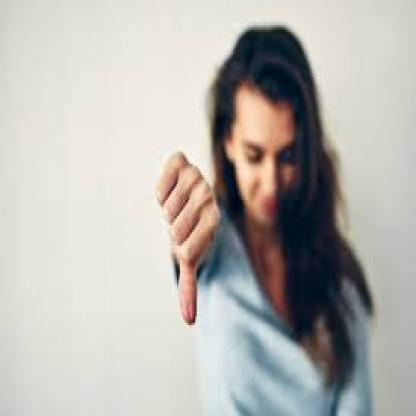thumb_down: (150, 149, 223, 329)
